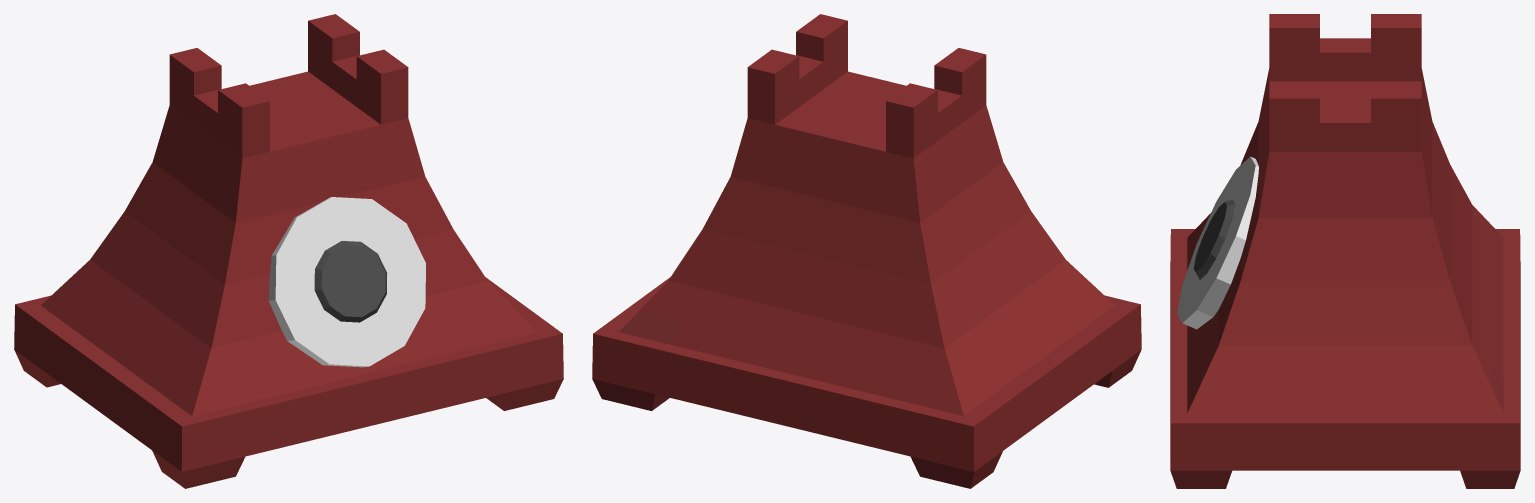
File: Rotary phone.fbx
3 renders of one model, left to right at view 1: azimuth 30°, elevation 25°; view 2: azimuth 150°, elevation 25°; view 3: azimuth 270°, elevation 25°, orthographic. The views are drawn at different scales.
Parts seen in each view (by area): view 1: Phone cable; view 2: Phone cable; view 3: Phone cable.
Part boxes in pixels (box(x1,y1,x2,y2)): Phone cable: box(14, 14, 563, 488); Phone cable: box(592, 14, 1141, 488); Phone cable: box(1170, 14, 1520, 488).
Size of the model in its own units: 232 by 176 by 188.
